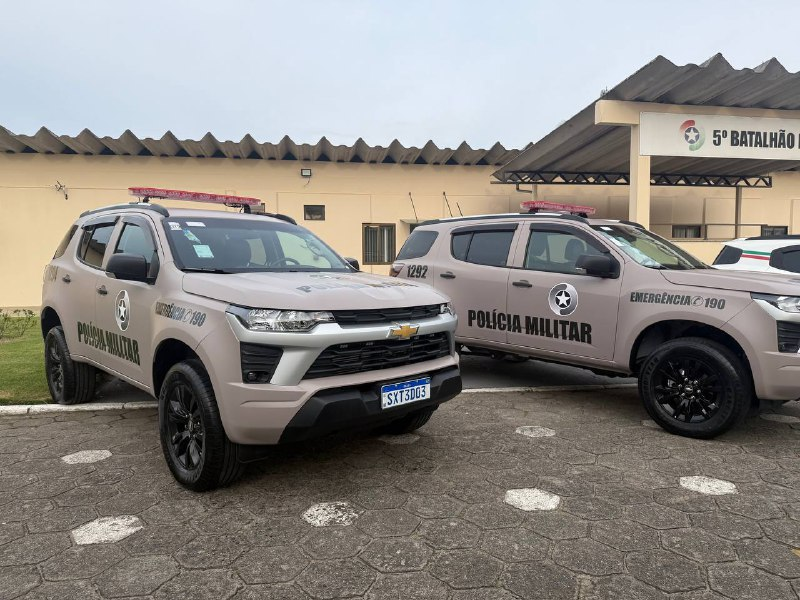car: (36, 180, 471, 488), (387, 195, 800, 435)
car_plate: (377, 386, 435, 410)
